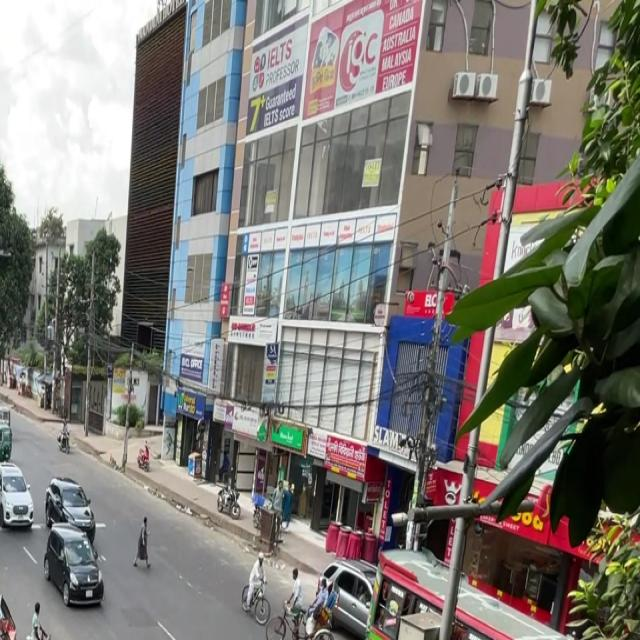bicycle: (236, 549, 277, 632)
car: (40, 518, 109, 612), (43, 470, 100, 542), (0, 457, 37, 535)
rickshaw: (0, 414, 15, 461)
